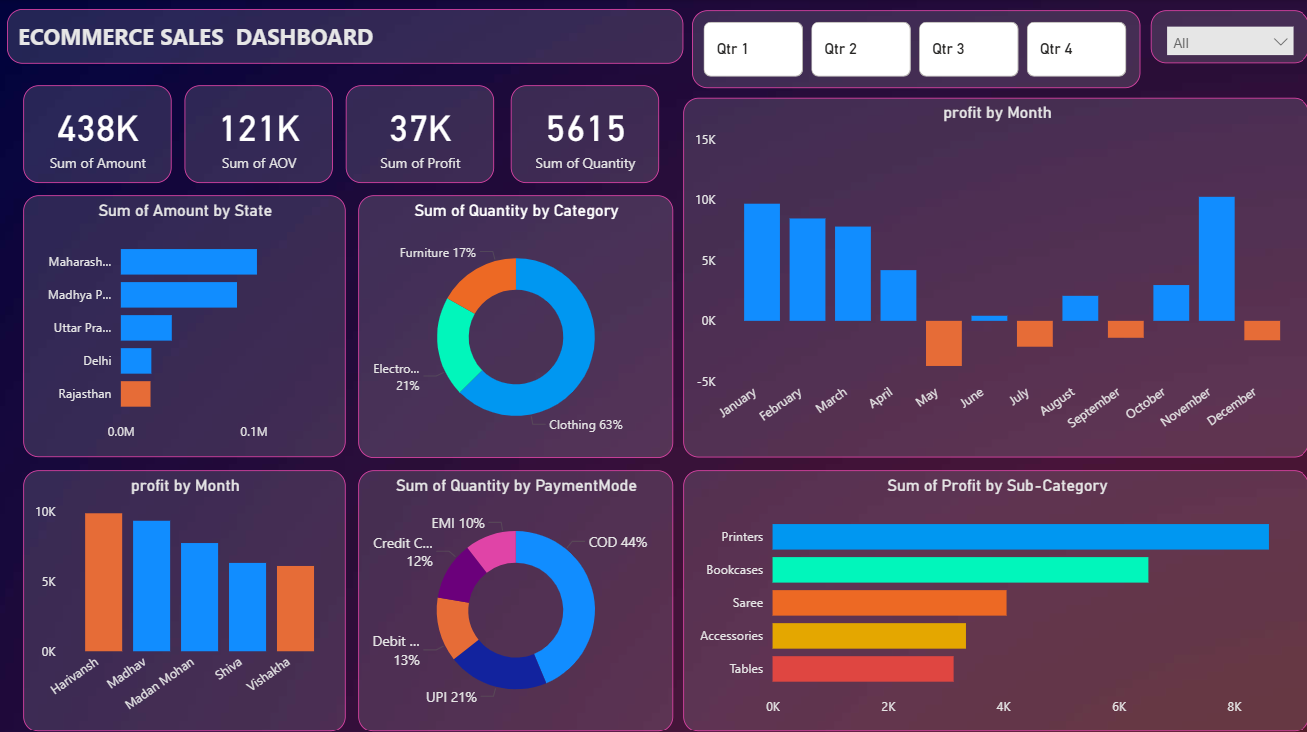

What the dashboard file says about the page in this screenshot:
{"tool":"powerbi","page":{"name":"Page 1","canvas":[1280,720],"ordinal":0},"visuals":[{"type":"textbox","box":[10,10,652.5,52.5],"z":0},{"type":"columnChart","title":"profit by Month","fields":{"Category":["Orders.Order Date.Variation.Date Hierarchy.Month"],"Y":["Sum(Details.Profit)"]},"box":[662.5,95,605,347.5],"z":1000},{"type":"barChart","fields":{"Category":["Details.Sub-Category"],"Y":["Sum(Details.Profit)"]},"box":[662.5,455,605,252.5],"z":2000},{"type":"donutChart","fields":{"Category":["Details.Category"],"Y":["Sum(Details.Quantity)"]},"box":[348.7,189.4,304,253.4],"z":3000},{"type":"donutChart","fields":{"Category":["Details.PaymentMode"],"Y":["Sum(Details.Quantity)"]},"box":[348.8,455,303.8,252.5],"z":4000},{"type":"card","fields":{"Values":["Sum(Details.Amount)"]},"box":[25.3,83.2,143.6,94.1],"z":5000},{"type":"card","fields":{"Values":["Sum(Details.Quantity)"]},"box":[495.8,83.2,143.6,94.1],"z":6000},{"type":"card","fields":{"Values":["Sum(Details.Profit)"]},"box":[336.6,83.2,143.6,94.1],"z":7000},{"type":"card","fields":{"Values":["Sum(Details.AOV)"]},"box":[181,83.2,143.6,94.1],"z":8000},{"type":"clusteredBarChart","fields":{"Category":["Orders.State"],"Y":["Sum(Details.Amount)"]},"box":[25,190,311.2,252.5],"z":9000},{"type":"columnChart","title":"profit by Month","fields":{"Category":["Orders.CustomerName"],"Y":["Sum(Details.Amount)"]},"box":[25,455,311.2,252.5],"z":10000},{"type":"advancedSlicerVisual","fields":{"Values":["Orders.Order Date.Variation.Date Hierarchy.Quarter"]},"box":[671.2,11.2,432.5,75],"z":11000},{"type":"slicer","fields":{"Values":["Orders.State"]},"box":[1113.8,11.2,153.8,51.2],"z":12000}]}

Visuals, with their boxes in screenshot pixels (x1, y1, x2, y2), scaled from the page's 1280x720 canvas onto the 1307x732 screenshot:
textbox: [x1=10, y1=10, x2=676, y2=64]
"profit by Month" columnChart: [x1=676, y1=97, x2=1294, y2=450]
barChart - Details.Sub-Category x Sum(Details.Profit): [x1=676, y1=463, x2=1294, y2=719]
donutChart - Details.Category x Sum(Details.Quantity): [x1=356, y1=193, x2=666, y2=450]
donutChart - Details.PaymentMode x Sum(Details.Quantity): [x1=356, y1=463, x2=666, y2=719]
card - Sum(Details.Amount): [x1=26, y1=85, x2=172, y2=180]
card - Sum(Details.Quantity): [x1=506, y1=85, x2=653, y2=180]
card - Sum(Details.Profit): [x1=344, y1=85, x2=490, y2=180]
card - Sum(Details.AOV): [x1=185, y1=85, x2=331, y2=180]
clusteredBarChart - Orders.State x Sum(Details.Amount): [x1=26, y1=193, x2=343, y2=450]
"profit by Month" columnChart: [x1=26, y1=463, x2=343, y2=719]
advancedSlicerVisual - Orders.Order Date.Variation.Date Hierarchy.Quarter: [x1=685, y1=11, x2=1127, y2=88]
slicer - Orders.State: [x1=1137, y1=11, x2=1294, y2=63]
